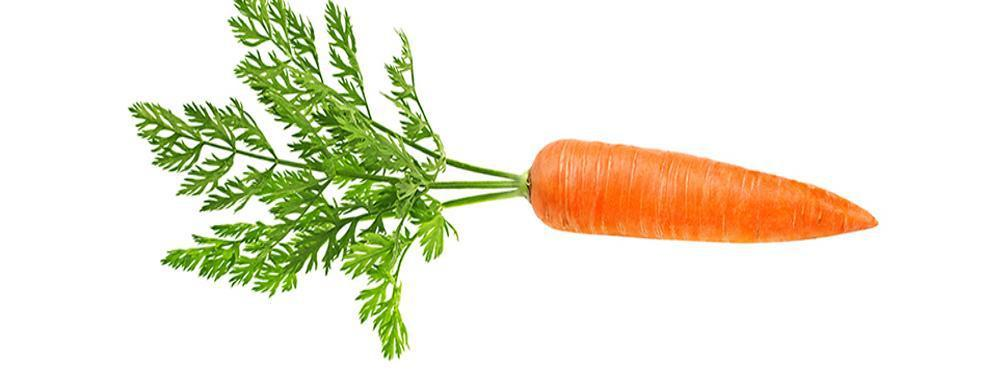carrot: (169, 89, 897, 303)
